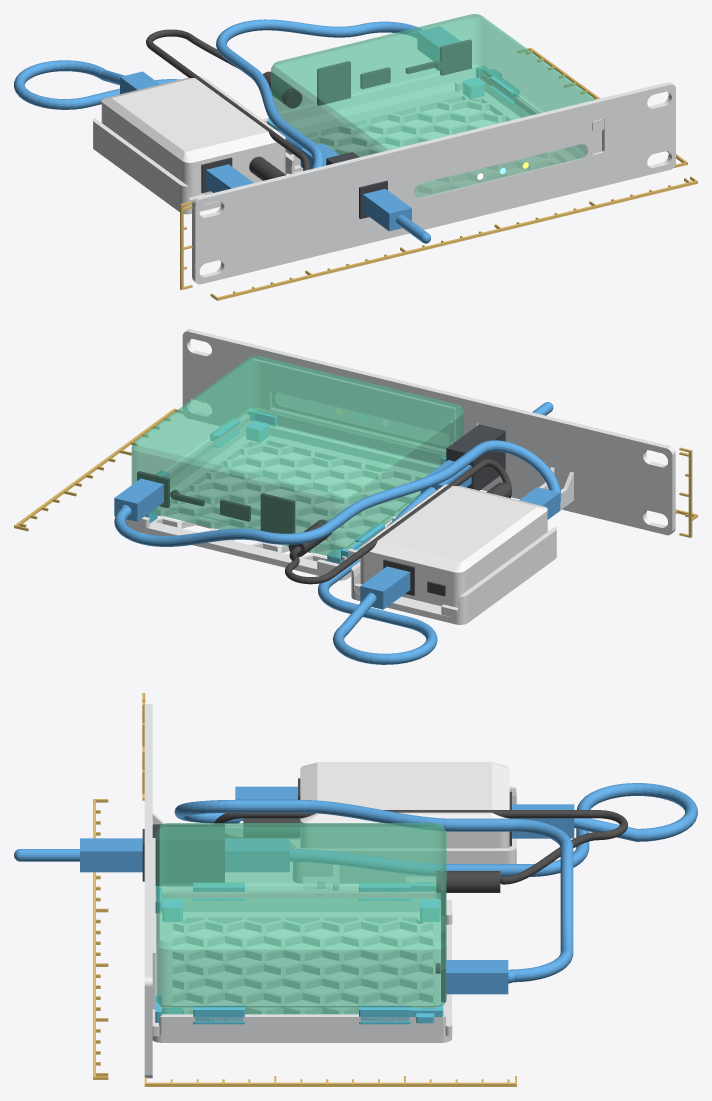
The model's file is home-assistant-green-rack-front_ethernet.glb.
3 views of the same model, one above another, from view 1: azimuth 30°, elevation 25°; view 2: azimuth 150°, elevation 25°; view 3: azimuth 270°, elevation 25° (orthographic). The views are drawn at different scales.
Parts seen in each view (by area): view 1: White rack mount, Home Assistant Green, TP-Link TL-PD30G-M2, Green tray — standard, Internal Ethernet cable, Front keystone → TP-Link PoE jumper, 10 mm dimension rulers, Home Assistant Green connector faces, DC cable, TP-Link cradle side walls, LED window insert, Green retention — segmented rails + rear latch (+4 smaller); view 2: Home Assistant Green, White rack mount, Green tray — standard, TP-Link TL-PD30G-M2, Internal Ethernet cable, LED shutter retainer, Front keystone → TP-Link PoE jumper, TP-Link cradle side walls, LED window insert, DC cable, Home Assistant Green connector faces, Green retention — segmented rails + rear latch (+4 smaller); view 3: Home Assistant Green, Green tray — standard, TP-Link TL-PD30G-M2, Front keystone → TP-Link PoE jumper, Internal Ethernet cable, DC cable, Green retention — segmented rails + rear latch, White rack mount, Front keystone coupler, 10 mm dimension rulers, TP-Link cradle side walls, Home Assistant Green connector faces (+1 smaller).
Boxes of the visible parts, bbox=[...] form: White rack mount: bbox=[192, 82, 675, 284]; Home Assistant Green: bbox=[271, 14, 594, 197]; TP-Link TL-PD30G-M2: bbox=[101, 76, 285, 197]; Green tray — standard: bbox=[285, 73, 541, 156]; Internal Ethernet cable: bbox=[206, 19, 460, 192]; Front keystone → TP-Link PoE jumper: bbox=[14, 60, 430, 243]; 10 mm dimension rulers: bbox=[180, 47, 697, 300]; Home Assistant Green connector faces: bbox=[284, 39, 471, 108]; DC cable: bbox=[146, 29, 310, 180]; TP-Link cradle side walls: bbox=[93, 118, 294, 207]; LED window insert: bbox=[414, 144, 587, 198]; Green retention — segmented rails + rear latch: bbox=[267, 66, 583, 145]; Home Assistant Green: bbox=[131, 356, 463, 558]; White rack mount: bbox=[182, 329, 675, 556]; Green tray — standard: bbox=[125, 414, 438, 580]; TP-Link TL-PD30G-M2: bbox=[360, 484, 547, 607]; Internal Ethernet cable: bbox=[114, 440, 561, 546]; LED shutter retainer: bbox=[252, 358, 455, 454]; Front keystone → TP-Link PoE jumper: bbox=[318, 402, 553, 664]; TP-Link cradle side walls: bbox=[351, 527, 556, 619]; LED window insert: bbox=[272, 392, 448, 448]; DC cable: bbox=[285, 459, 511, 584]; Home Assistant Green connector faces: bbox=[137, 471, 331, 536]; Green retention — segmented rails + rear latch: bbox=[145, 409, 446, 563]; Home Assistant Green: bbox=[156, 823, 446, 1014]; Green tray — standard: bbox=[152, 891, 452, 1042]; TP-Link TL-PD30G-M2: bbox=[300, 762, 509, 848]; Front keystone → TP-Link PoE jumper: bbox=[14, 783, 697, 876]; Internal Ethernet cable: bbox=[174, 786, 573, 994]; DC cable: bbox=[214, 810, 627, 892]; Green retention — segmented rails + rear latch: bbox=[155, 882, 443, 1024]; White rack mount: bbox=[144, 704, 435, 1078]; Front keystone coupler: bbox=[142, 824, 224, 885]; 10 mm dimension rulers: bbox=[93, 693, 516, 1086]; TP-Link cradle side walls: bbox=[293, 786, 516, 877]; Home Assistant Green connector faces: bbox=[435, 871, 445, 1002].
Size of what is drawn, in the model's own units: 268 by 43 by 264.
